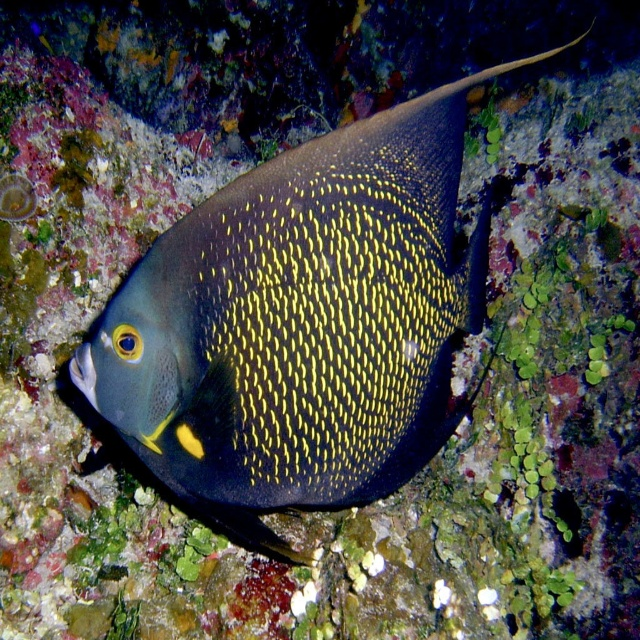Fish: (69, 17, 597, 567)
